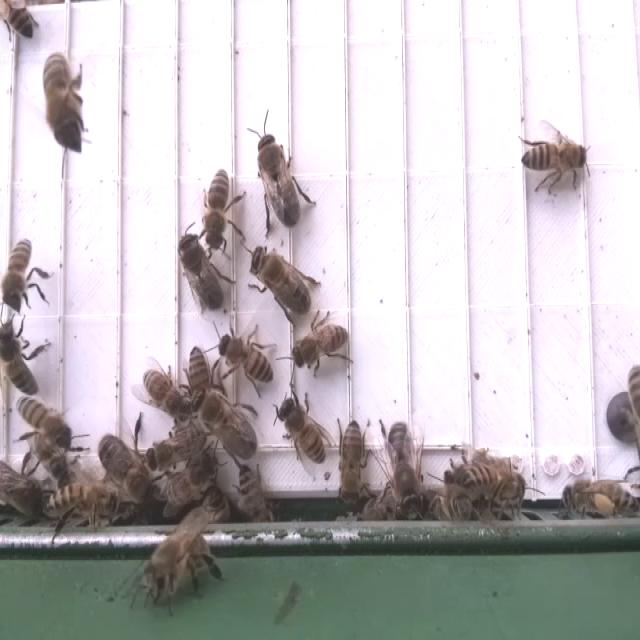Drone: (191, 381, 260, 462), (254, 128, 304, 233), (96, 430, 160, 510), (247, 243, 315, 318), (176, 230, 228, 313), (386, 418, 425, 514)
Worker: (139, 523, 229, 608), (273, 394, 331, 469), (140, 366, 198, 426), (217, 330, 278, 386), (334, 416, 372, 505), (0, 314, 39, 398), (14, 396, 72, 452), (44, 481, 121, 523), (290, 320, 352, 372), (0, 236, 38, 317), (144, 426, 208, 471), (454, 459, 525, 499), (202, 166, 234, 252), (520, 138, 592, 176), (187, 343, 211, 412)
